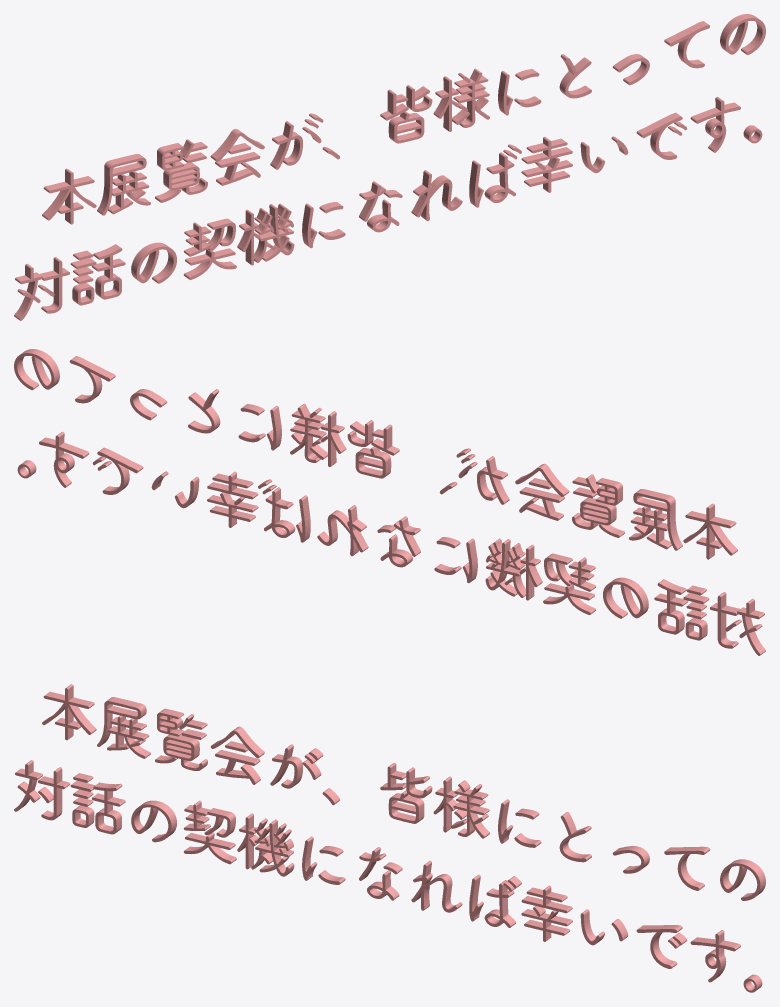
3 renders of one model, top to bottom at view 1: azimuth 30°, elevation 25°; view 2: azimuth 150°, elevation 25°; view 3: azimuth 330°, elevation 25°, orthographic.
Visible parts, largest first — view 1: Path (×21), キャップ 1 (×12); view 2: Path (×21), キャップ 2 (×12); view 3: Path (×21), キャップ 1 (×12).
Part boxes in pixels (box(x1,y1,x2,y2)): Path (×21): box(14, 14, 762, 319); キャップ 1 (×12): box(19, 72, 572, 320); Path (×21): box(17, 349, 765, 654); キャップ 2 (×12): box(207, 407, 760, 655); Path (×21): box(16, 684, 765, 979); キャップ 1 (×12): box(14, 688, 567, 941).
Bounding box in the file's own units: 1.56 × 0.2756 × 0.02.
